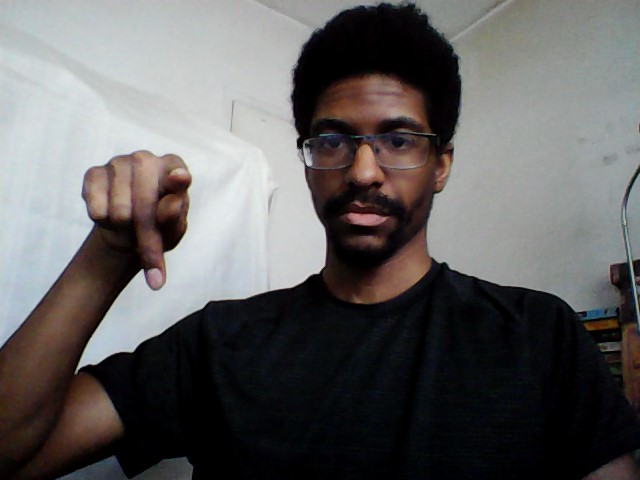p: (78, 147, 199, 298)
